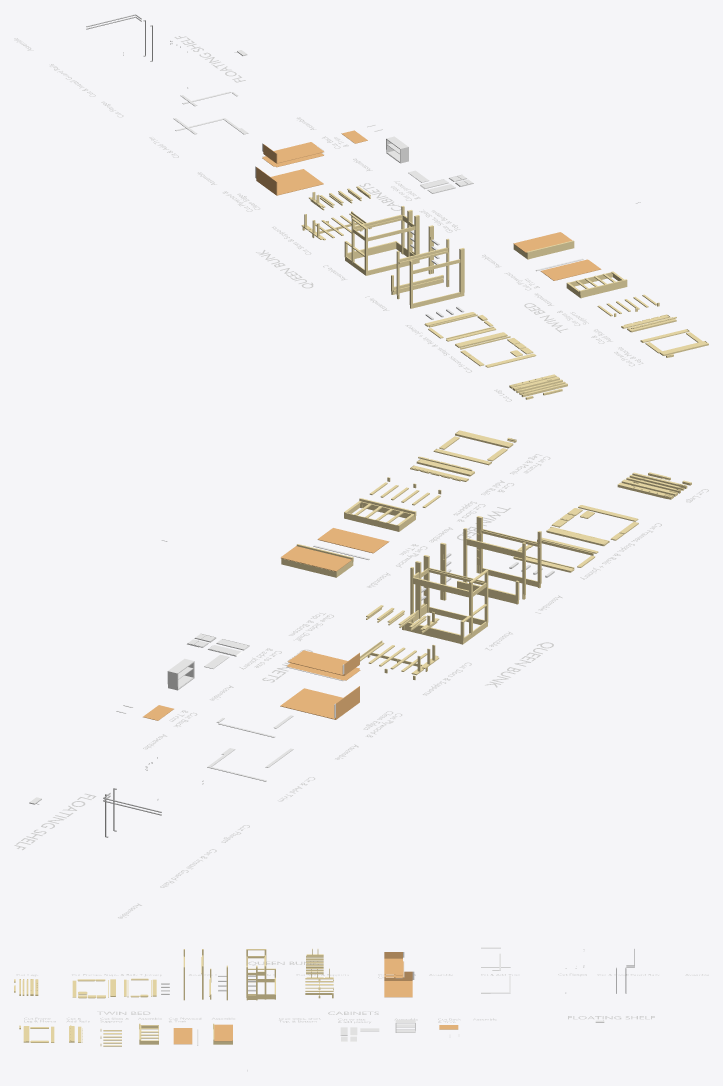
File: bunks-build.glb
3 views of the same model, one above another, from view 1: azimuth 30°, elevation 25°; view 2: azimuth 150°, elevation 25°; view 3: azimuth 270°, elevation 25° (orthographic). The views are drawn at different scales.
Parts seen in each view (by area): view 1: queen-platform.005, bed-platform.005; view 2: queen-platform.005, bed-platform.005, bed-platform.006, twin-platform-top.005; view 3: queen-platform.005, bed-platform.006, bed-platform.005, twin-platform-top.005.
Part boxes in pixels (bbox=[...]): queen-platform.005: bbox=[271, 169, 323, 195]; bed-platform.005: bbox=[540, 259, 601, 280]; queen-platform.005: bbox=[280, 688, 342, 719]; bed-platform.005: bbox=[317, 528, 389, 553]; bed-platform.006: bbox=[281, 546, 351, 571]; twin-platform-top.005: bbox=[288, 650, 347, 675]; queen-platform.005: bbox=[384, 981, 412, 997]; bed-platform.006: bbox=[214, 1024, 232, 1041]; bed-platform.005: bbox=[173, 1028, 192, 1044]; twin-platform-top.005: bbox=[384, 958, 402, 975].
Bounding box in the file's own units: 14.71 × 2.11 × 37.91.
